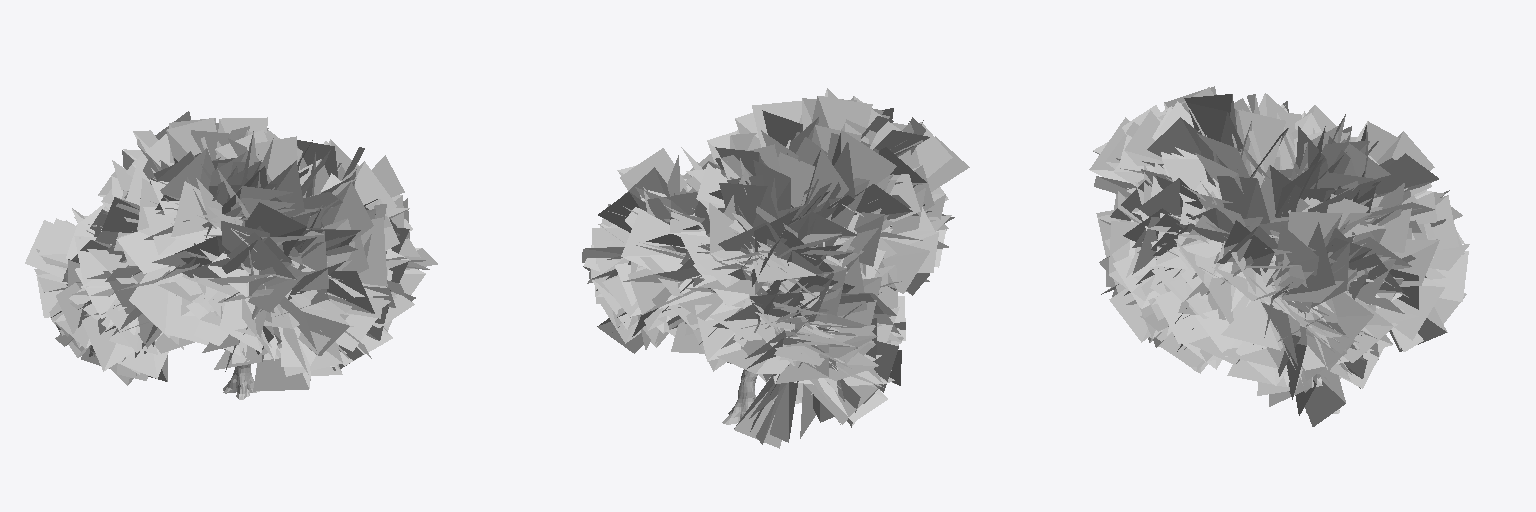
File: tronco.obj
The picture shows the model from 3 angles: view 1: azimuth 30°, elevation 25°; view 2: azimuth 150°, elevation 25°; view 3: azimuth 270°, elevation 25°; orthographic projection.
Visible parts, largest first — view 1: prunusserrulata_1.003, prunusserrulata_1.007, prunusserrulata_1.006, prunusserrulata_1, prunusserrulata_1.005, prunusserrulata_1.004, Tronco; view 2: prunusserrulata_1.006, prunusserrulata_1.007, prunusserrulata_1.004, prunusserrulata_1.003, prunusserrulata_1, prunusserrulata_1.005, Tronco; view 3: prunusserrulata_1, prunusserrulata_1.006, prunusserrulata_1.007, prunusserrulata_1.004, prunusserrulata_1.003, prunusserrulata_1.005.
Boxes of the visible parts, box(x1,y1,x2,y2) form: prunusserrulata_1.003: box(25, 117, 437, 391); prunusserrulata_1.007: box(51, 111, 396, 368); prunusserrulata_1.006: box(64, 126, 425, 378); prunusserrulata_1: box(34, 130, 429, 371); prunusserrulata_1.005: box(36, 130, 410, 385); prunusserrulata_1.004: box(62, 118, 425, 363); Tronco: box(223, 364, 259, 399); prunusserrulata_1.006: box(591, 96, 952, 442); prunusserrulata_1.007: box(589, 117, 954, 431); prunusserrulata_1.004: box(598, 98, 969, 393); prunusserrulata_1.003: box(582, 88, 945, 444); prunusserrulata_1: box(584, 108, 948, 448); prunusserrulata_1.005: box(583, 96, 948, 438); Tronco: box(722, 369, 757, 424); prunusserrulata_1: box(1089, 87, 1447, 385); prunusserrulata_1.006: box(1097, 94, 1468, 415); prunusserrulata_1.007: box(1094, 86, 1469, 406); prunusserrulata_1.004: box(1093, 98, 1437, 395); prunusserrulata_1.003: box(1105, 108, 1464, 388); prunusserrulata_1.005: box(1112, 94, 1434, 426).
Bounding box in the file's own units: 10.73 × 9.23 × 10.69.